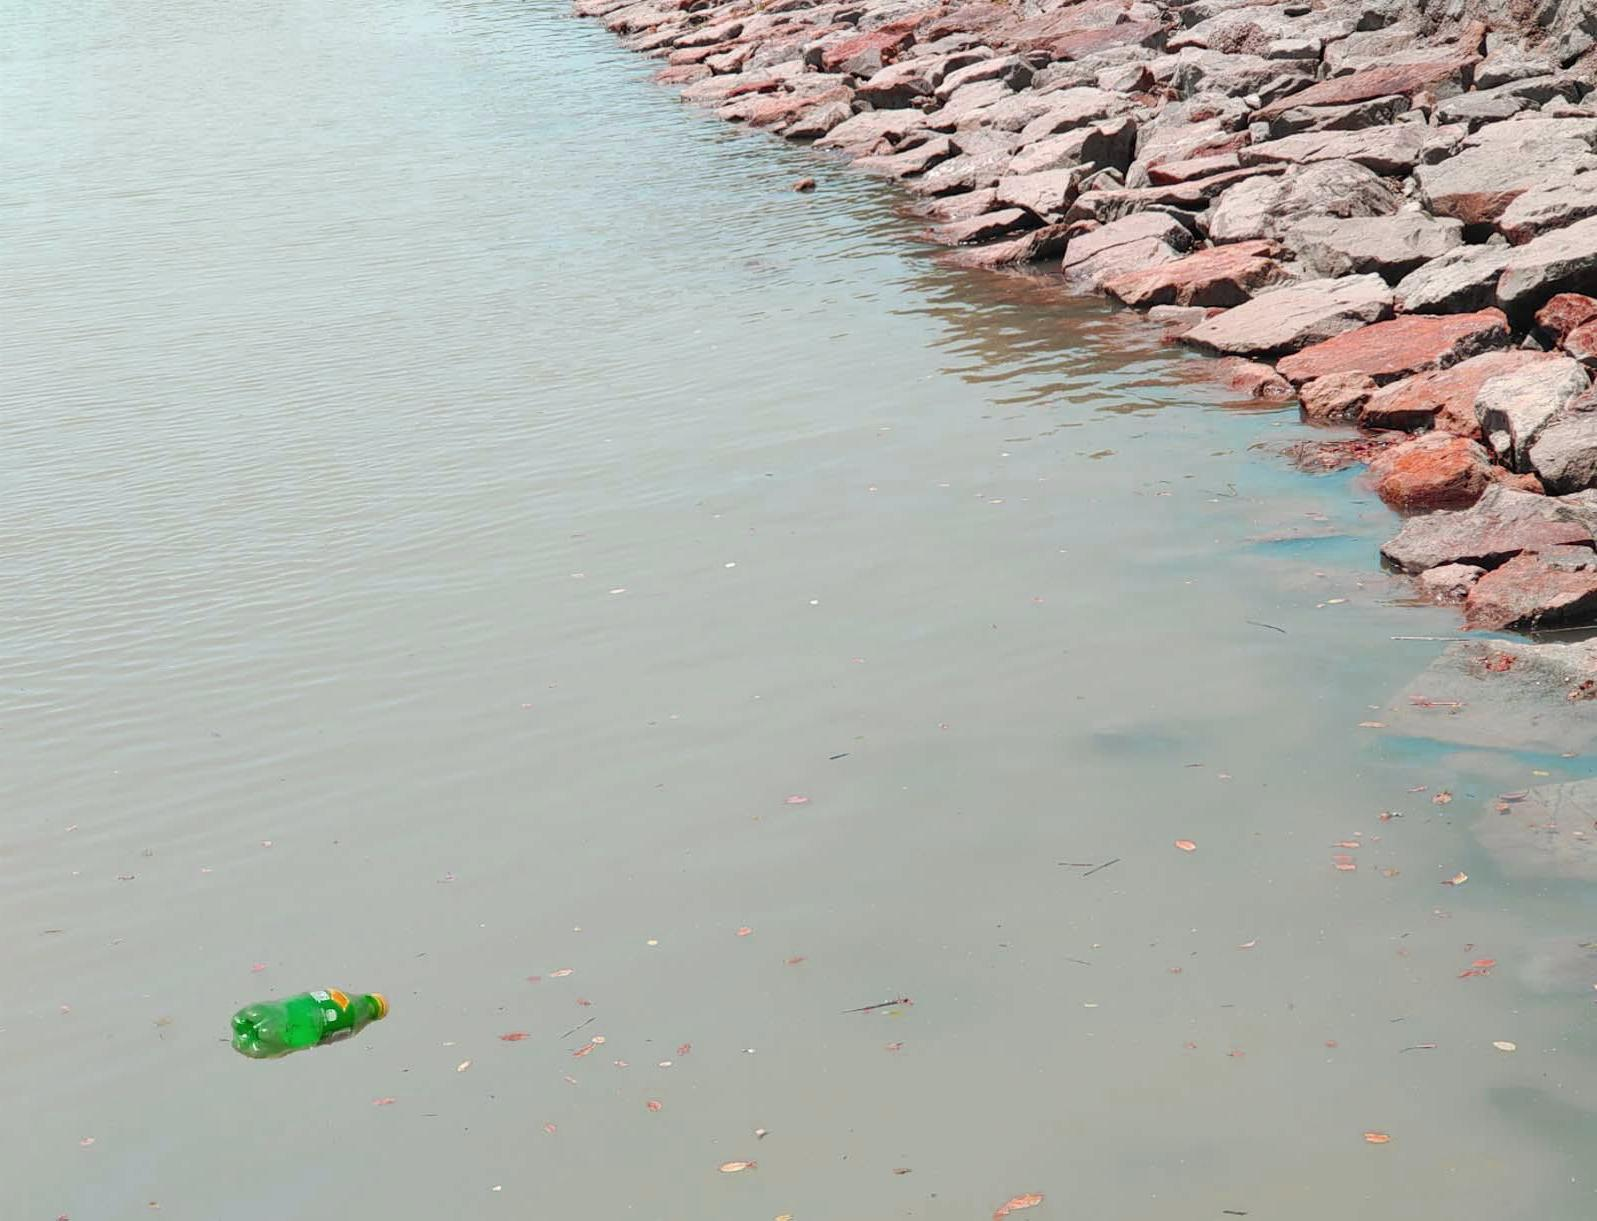Plastic: (215, 985, 387, 1066)
